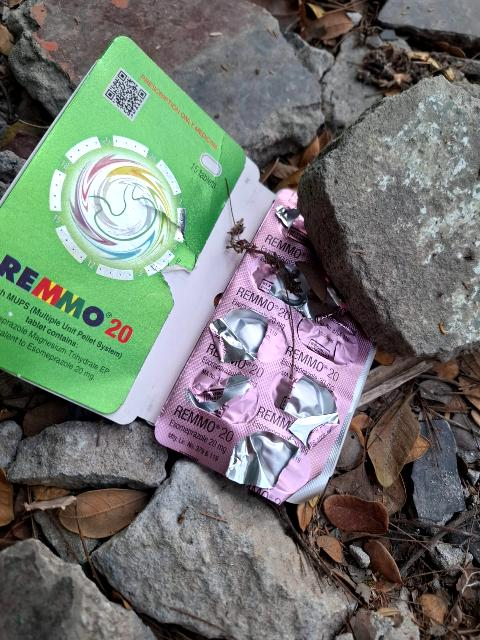medicine: (159, 186, 426, 510)
